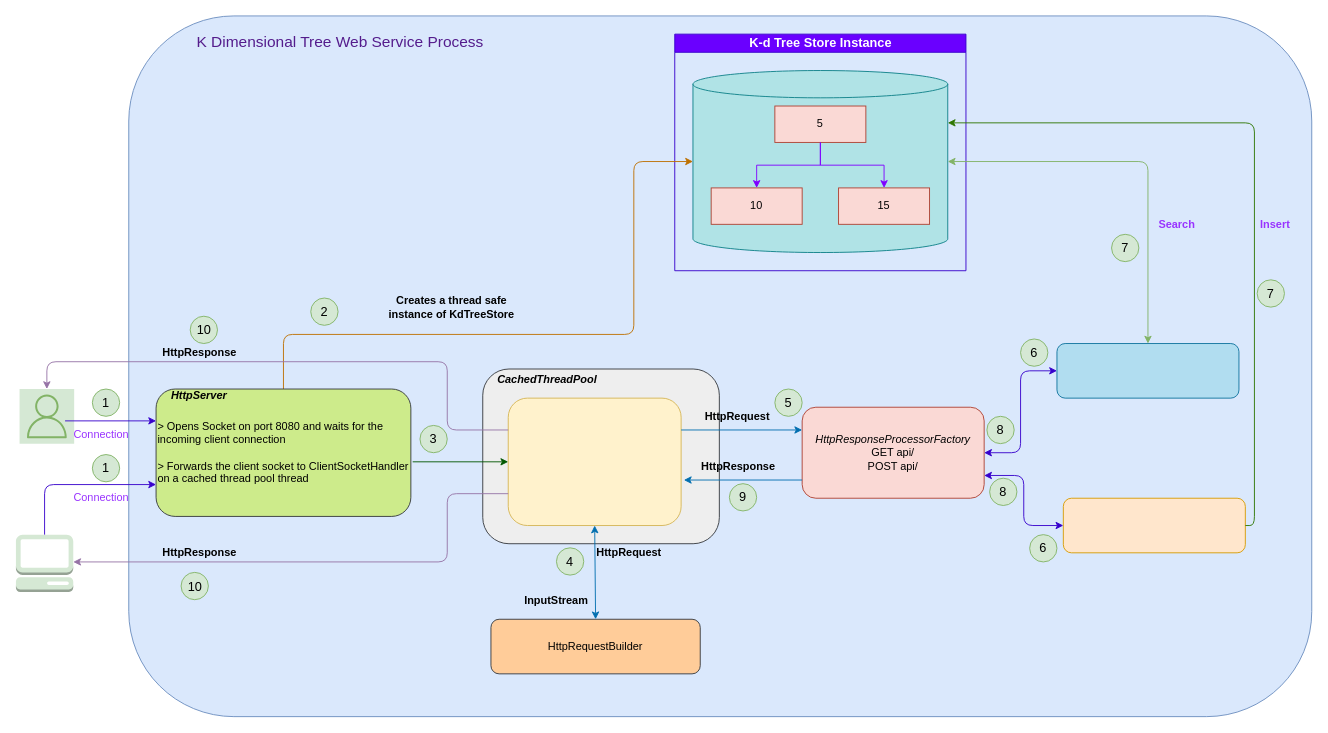
Some shapes in this 1328 by 733 pixel diagram are drawn without their labels. Each missing label, with the centre of its shape:
ClientSocketHandler: the point at 594,461
KdGetRequestProcessor: the point at 1147,370
KdPostRequestProcessor: the point at 1153,525
User: the point at 46,416
